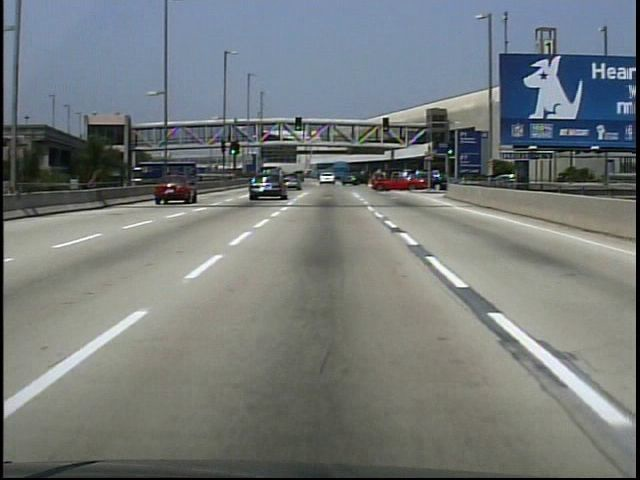person: (227, 132, 234, 145)
